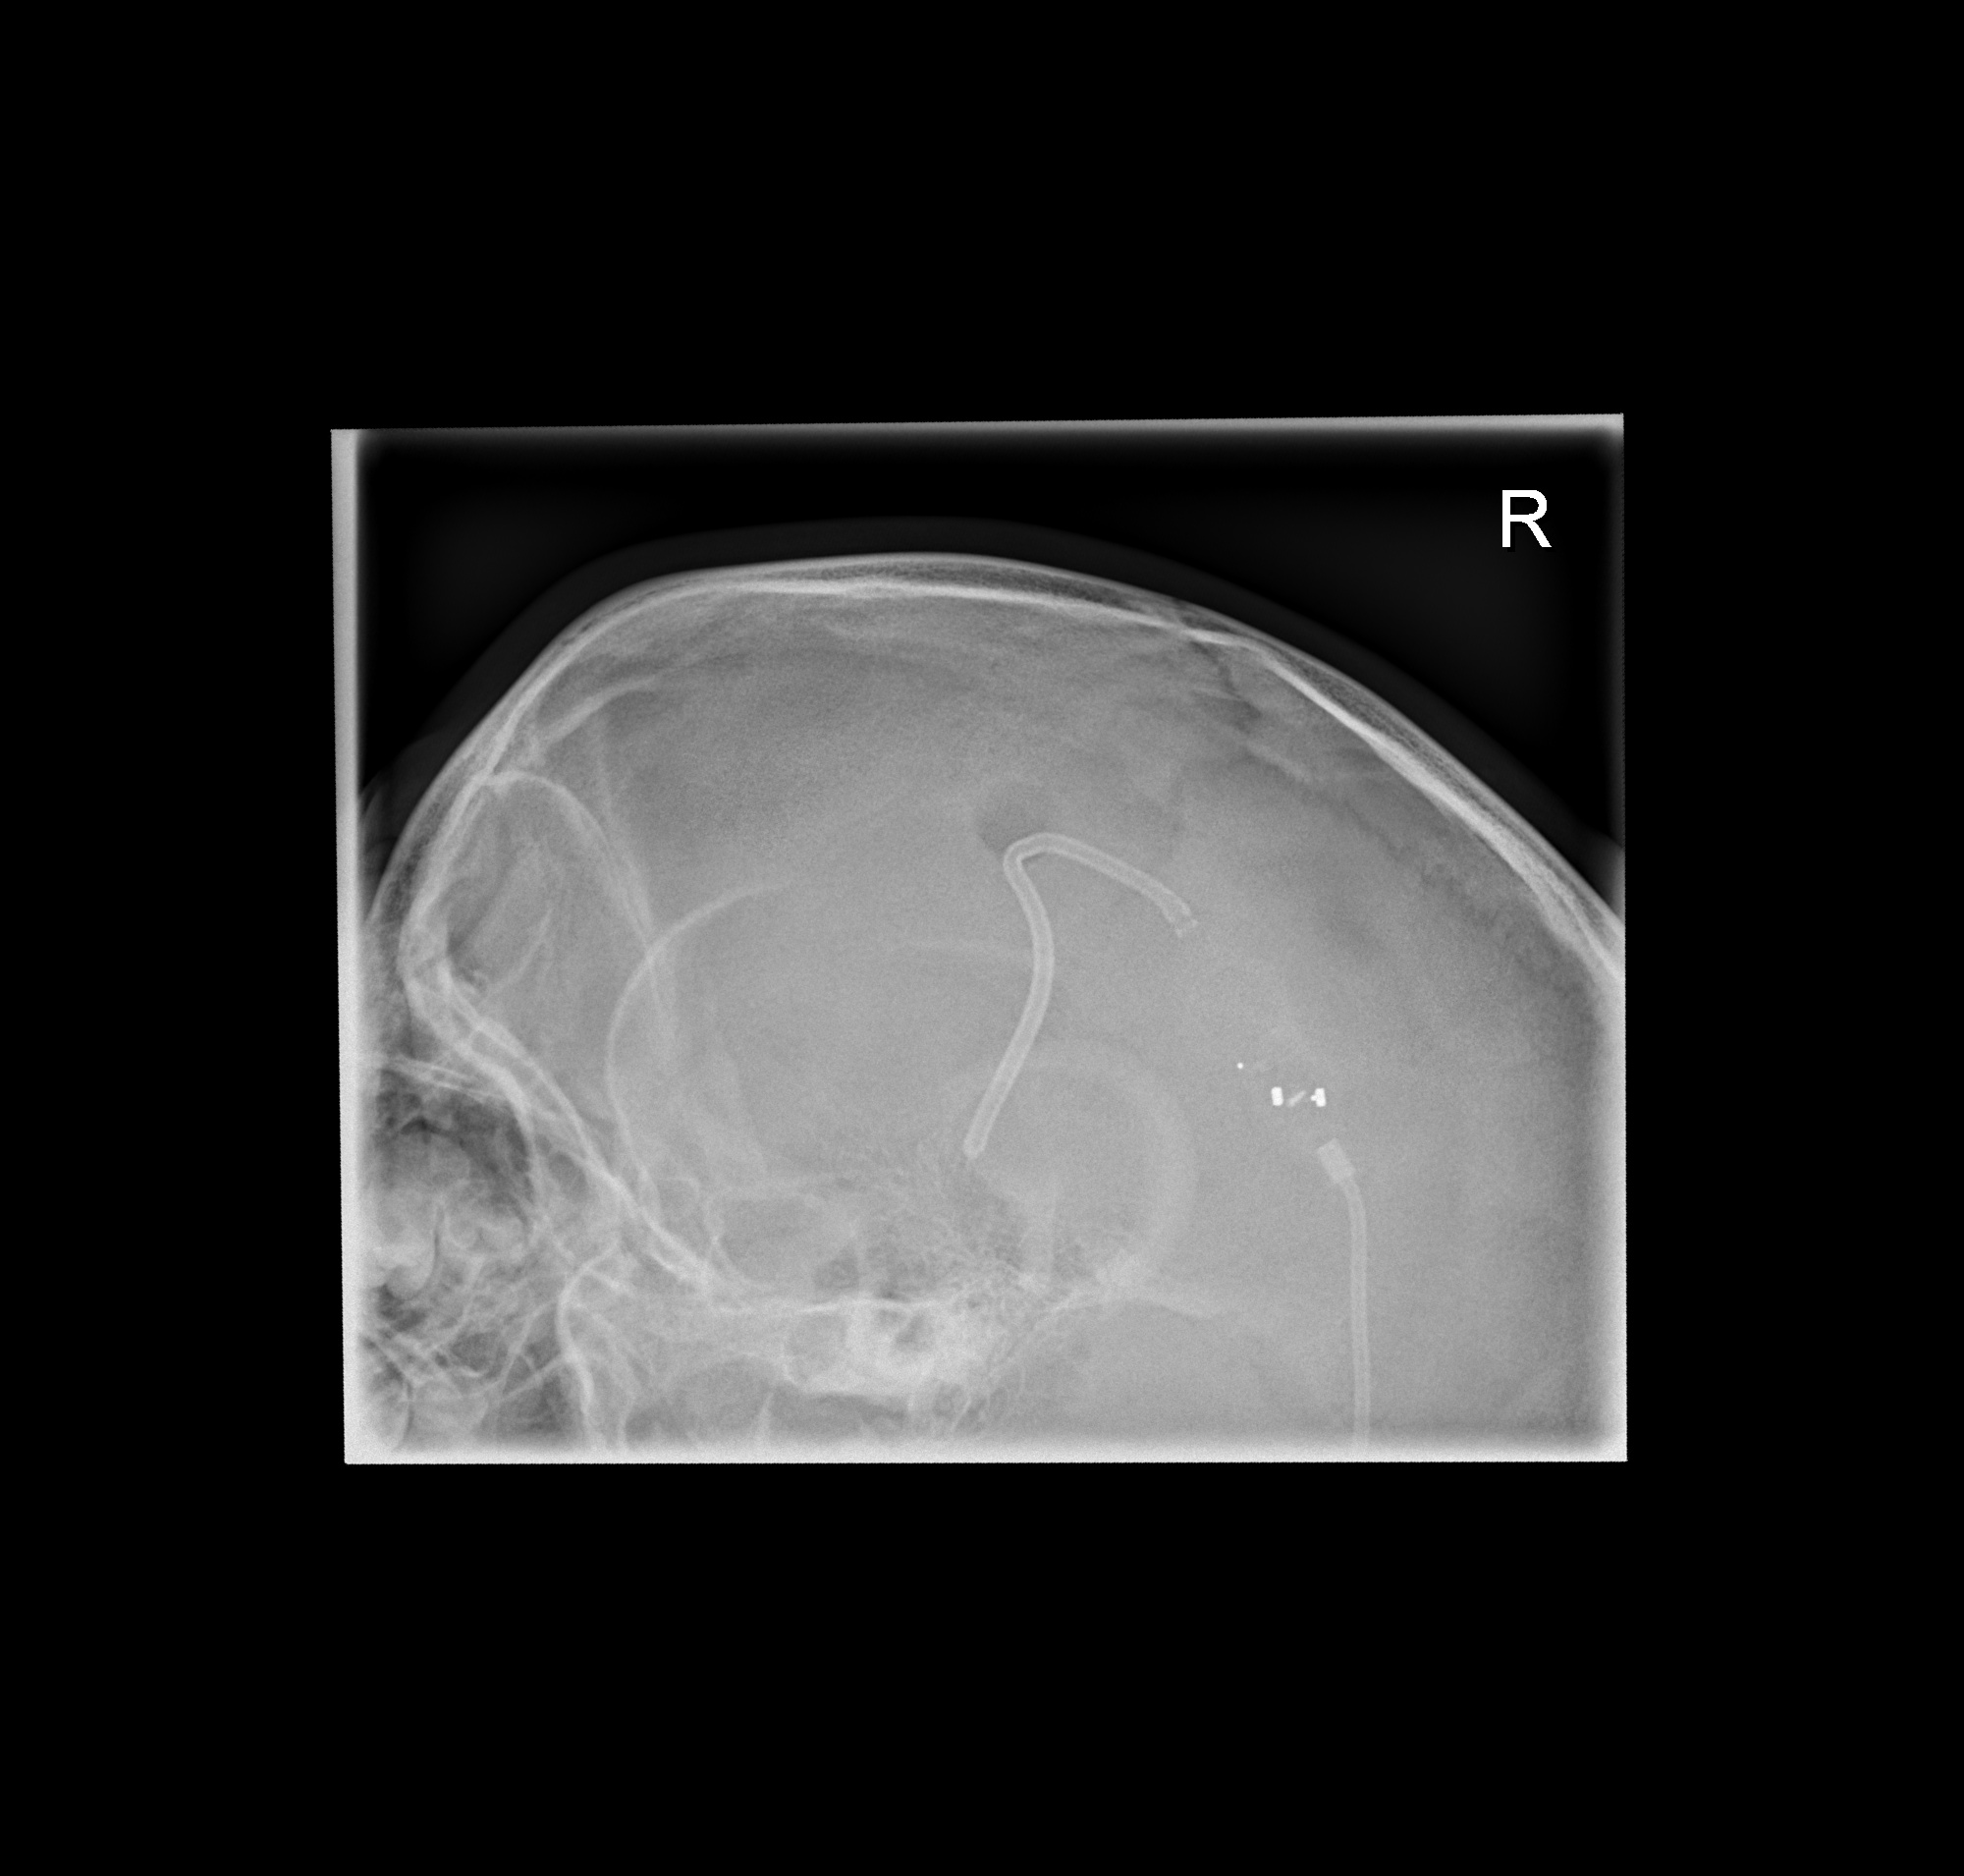Codman Certas: (1215, 1040, 1366, 1147)
